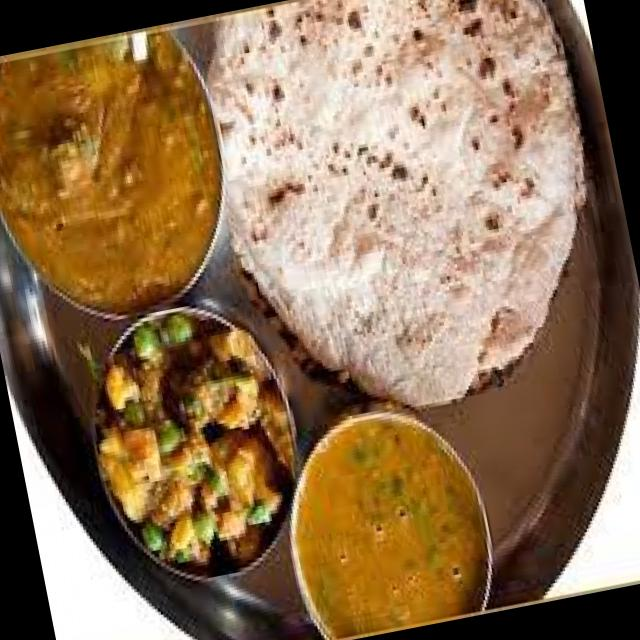roti: (212, 0, 583, 402)
